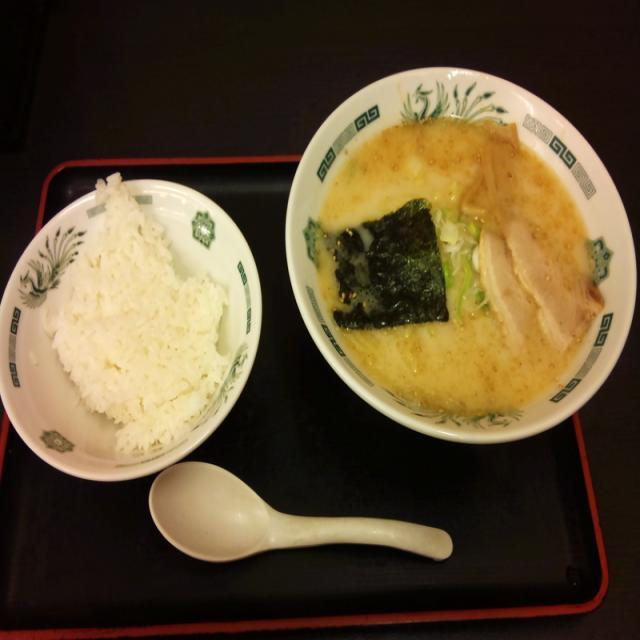Rice: (48, 164, 238, 451)
